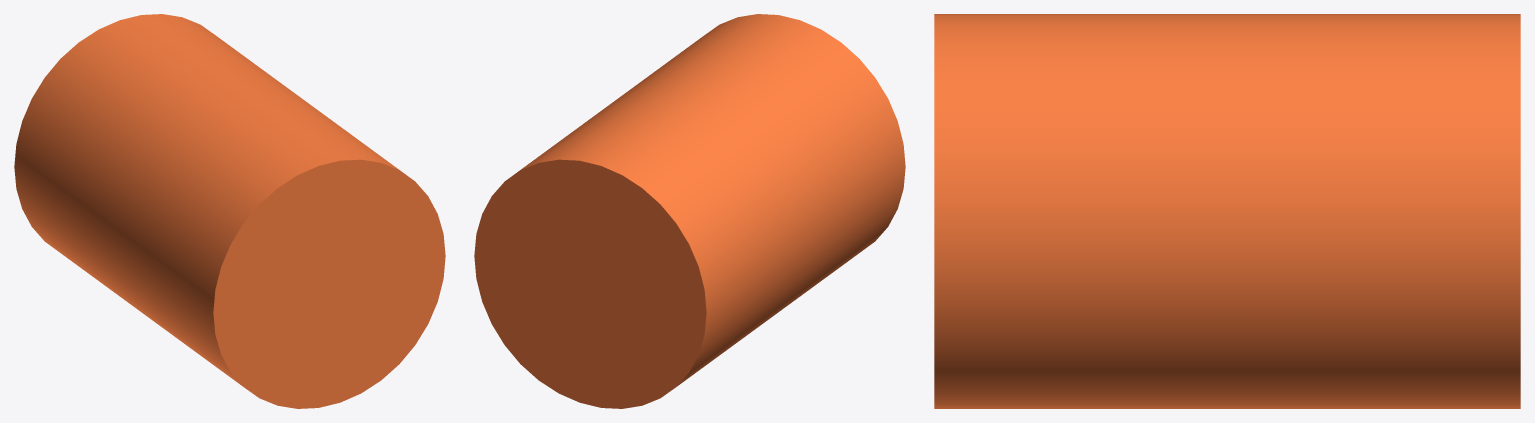
Rendered from short_pin_ShortingPin.obj.
3 renders of one model, left to right at view 1: azimuth 30°, elevation 25°; view 2: azimuth 150°, elevation 25°; view 3: azimuth 270°, elevation 25°, orthographic. The views are drawn at different scales.
Size of the model in its own units: 1.06 by 1.06 by 1.57.
